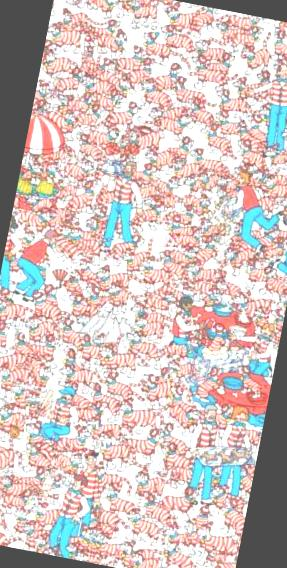waldo: (78, 447, 98, 470)
